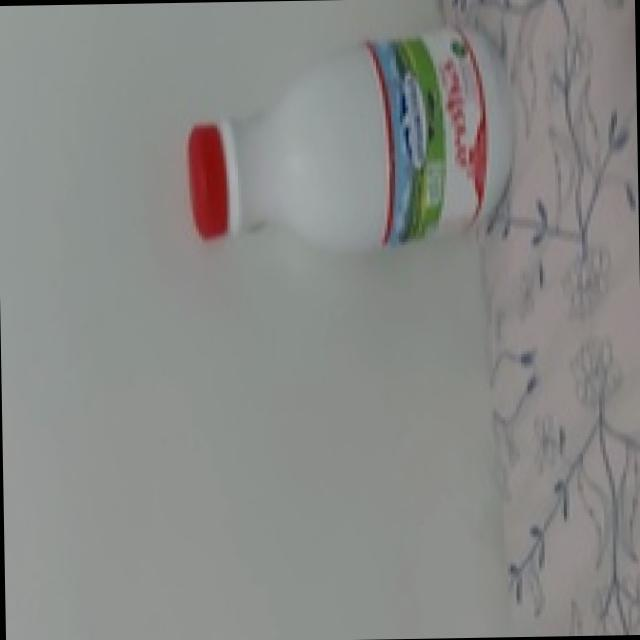good: (167, 19, 566, 264)
